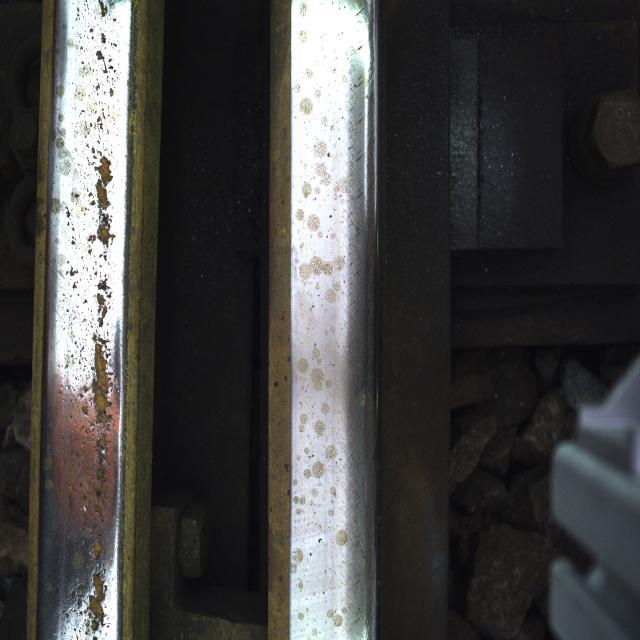scar: (285, 53, 375, 635), (51, 23, 126, 640)
